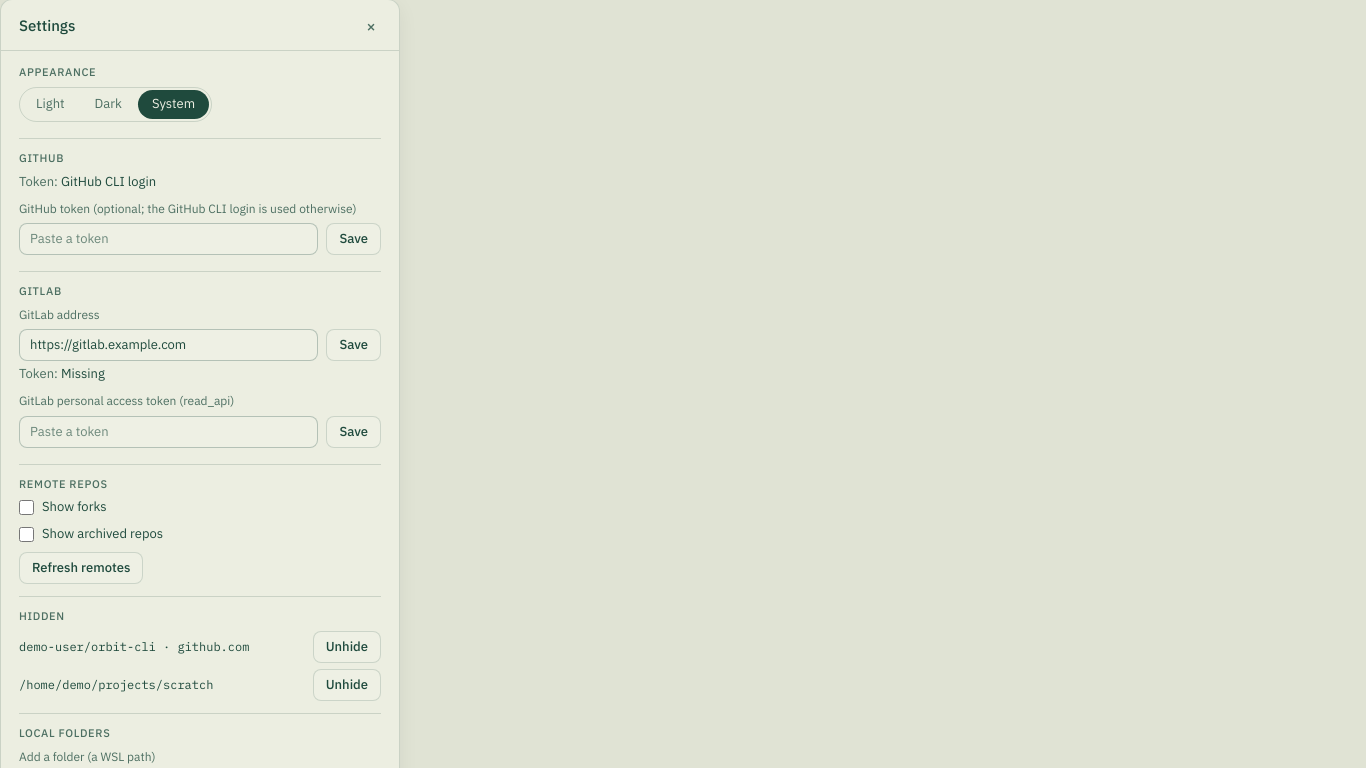
Test case: SettingsPanel › shows why a theme did not save
Click the radio button labelled "Light" at (50, 103), box [36,95,65,112]
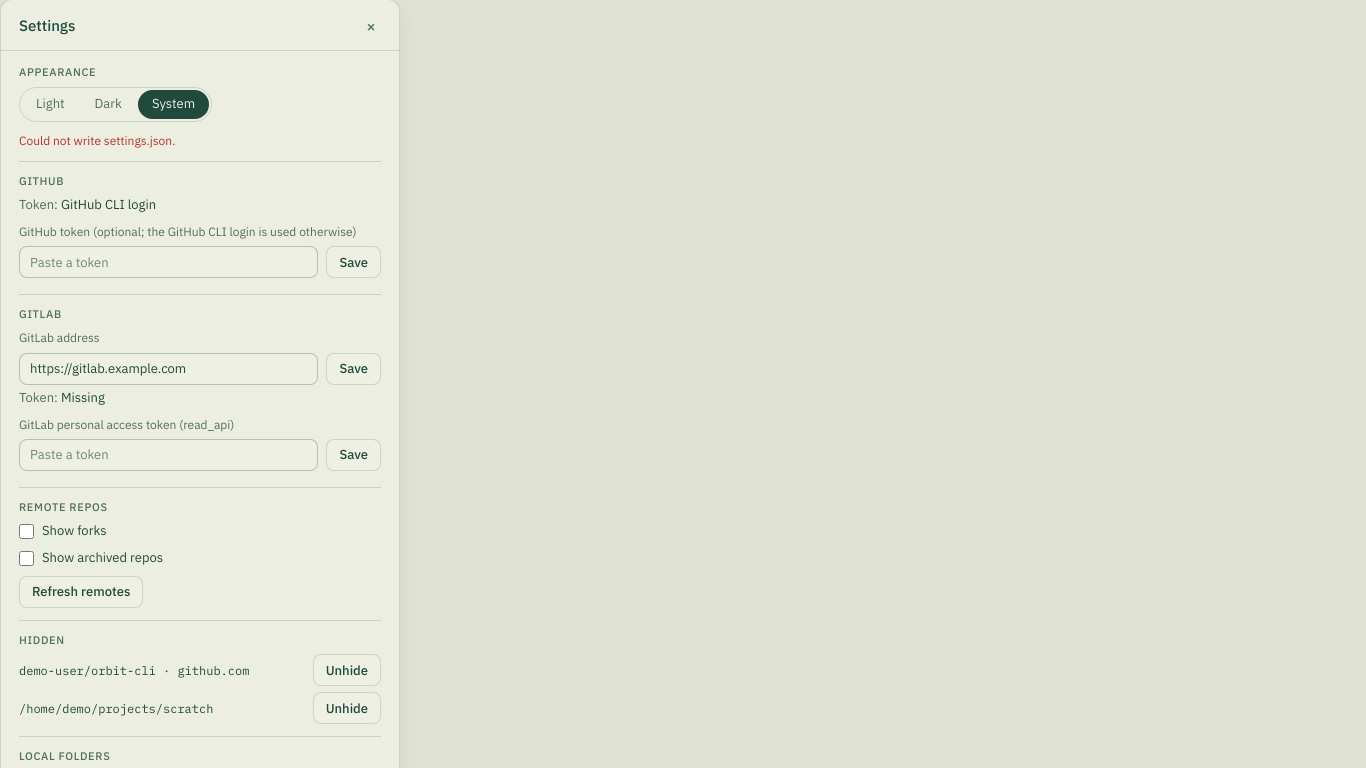
Expected: the message reads "Could not write settings.json.", [19,133,175,148]
